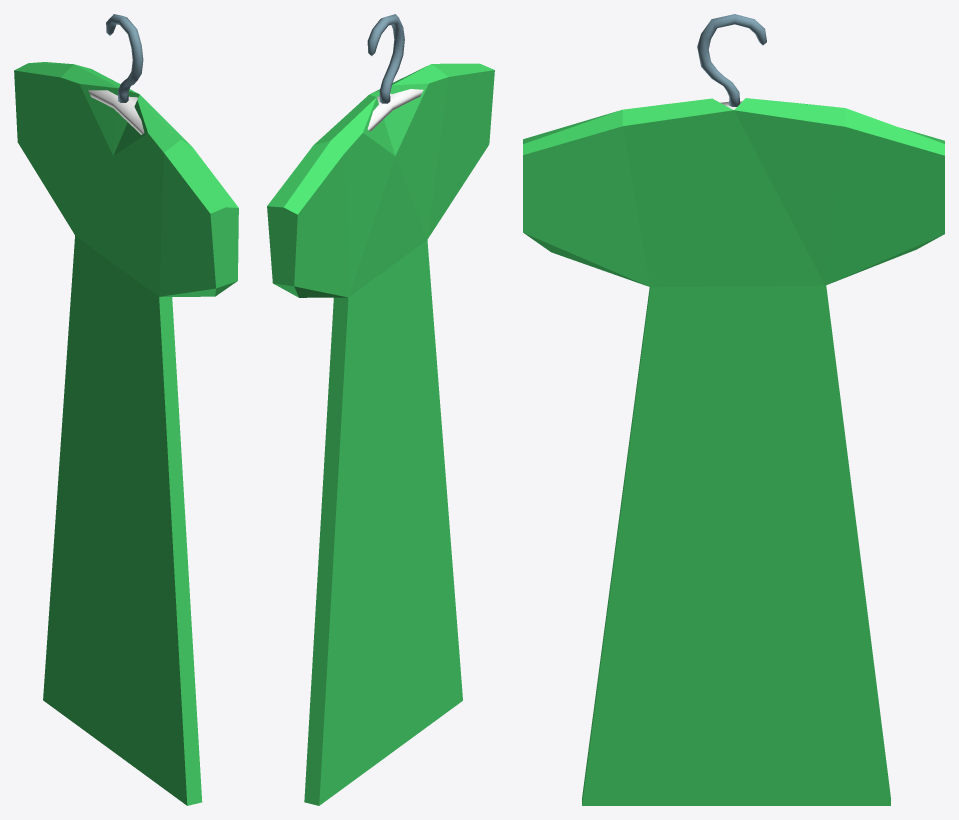
File: dress1.fbx
3 renders of one model, left to right at view 1: azimuth 30°, elevation 25°; view 2: azimuth 150°, elevation 25°; view 3: azimuth 270°, elevation 25°, orthographic. The views are drawn at different scales.
Visible parts, largest first — view 1: Cube.007, Cube.009; view 2: Cube.007, Cube.009; view 3: Cube.007, Cube.009.
Part boxes in pixels (x1,y1,x2,y2): Cube.007: (14,62,238,805); Cube.009: (88,14,144,134); Cube.007: (267,63,494,805); Cube.009: (367,14,423,131); Cube.007: (523,98,944,805); Cube.009: (697,14,766,109).
Size of the model in its own units: 17.93 by 400 by 194.
